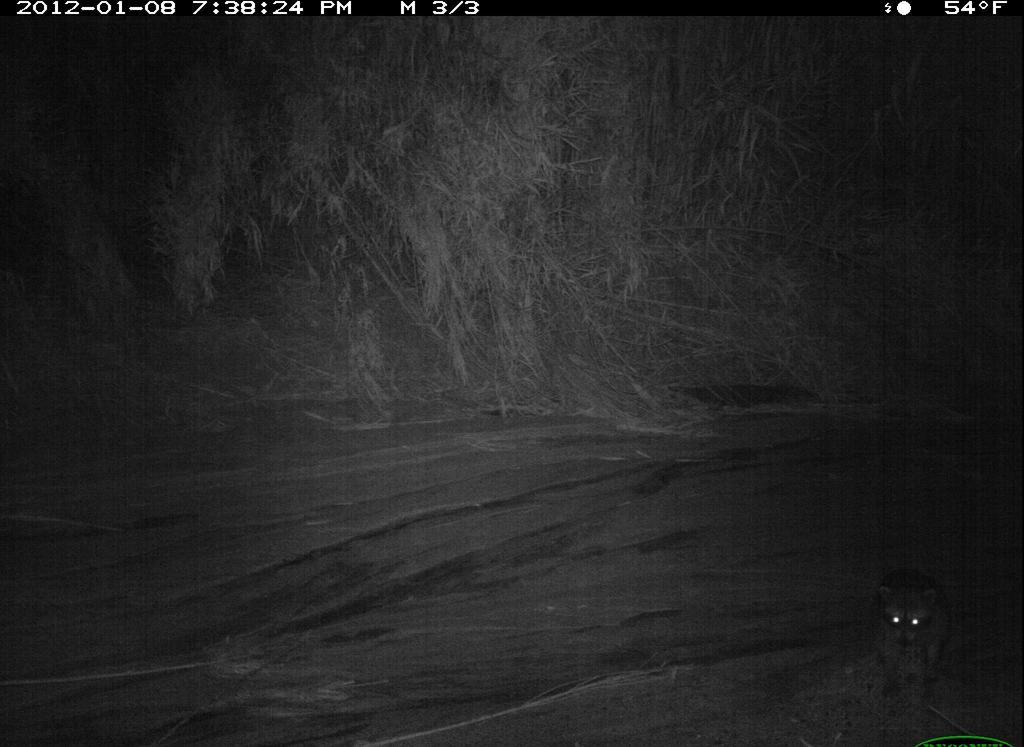raccoon: (858, 552, 964, 697)
